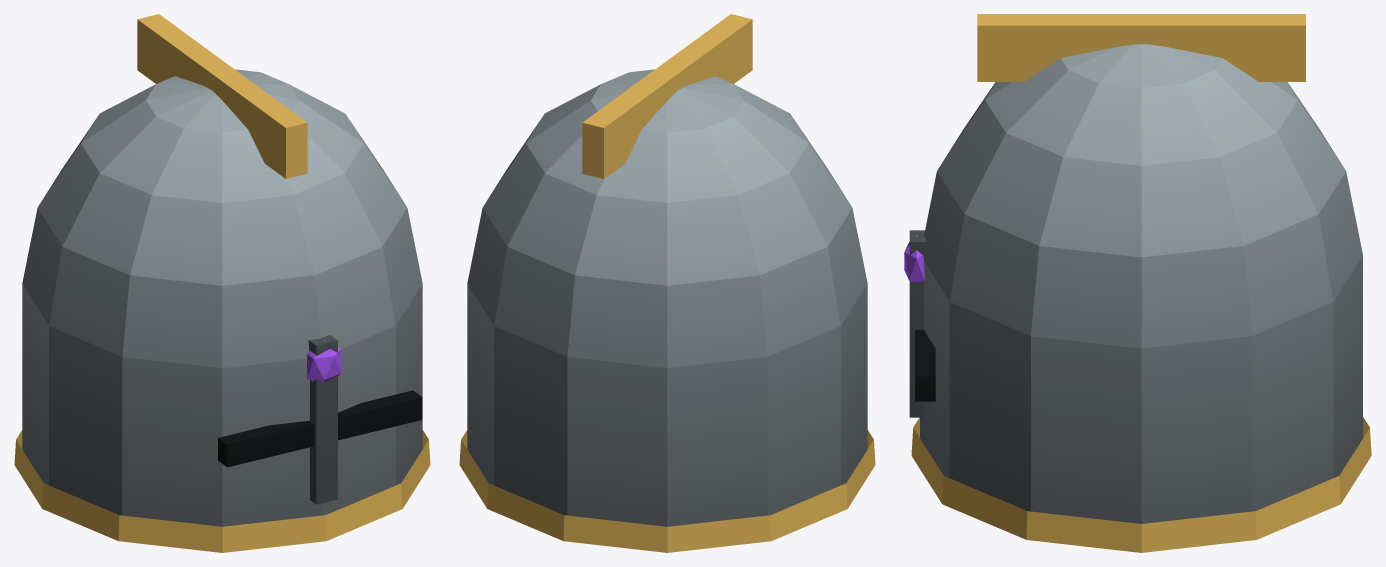
The model's file is guard_helm_t3.glb.
3 views of the same model, side by side, from view 1: azimuth 30°, elevation 25°; view 2: azimuth 150°, elevation 25°; view 3: azimuth 270°, elevation 25° (orthographic). The views are drawn at different scales.
Parts seen in each view (by area): view 1: guard_helm_t3__head; view 2: guard_helm_t3__head; view 3: guard_helm_t3__head.
Boxes of the visible parts, x1,y1,x2,y2 form: guard_helm_t3__head: (14, 14, 430, 552); guard_helm_t3__head: (459, 14, 875, 552); guard_helm_t3__head: (904, 14, 1371, 552).
Size of the model in its own units: 1.33 by 1.39 by 1.35.
Materials: 2 (1 with a texture image).
